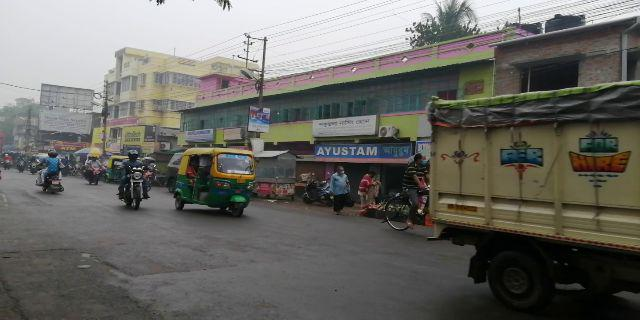Autorickshaw: (174, 146, 257, 210)
Minitruck: (425, 84, 630, 286)
Motorbike: (114, 150, 148, 211), (32, 147, 69, 194)
